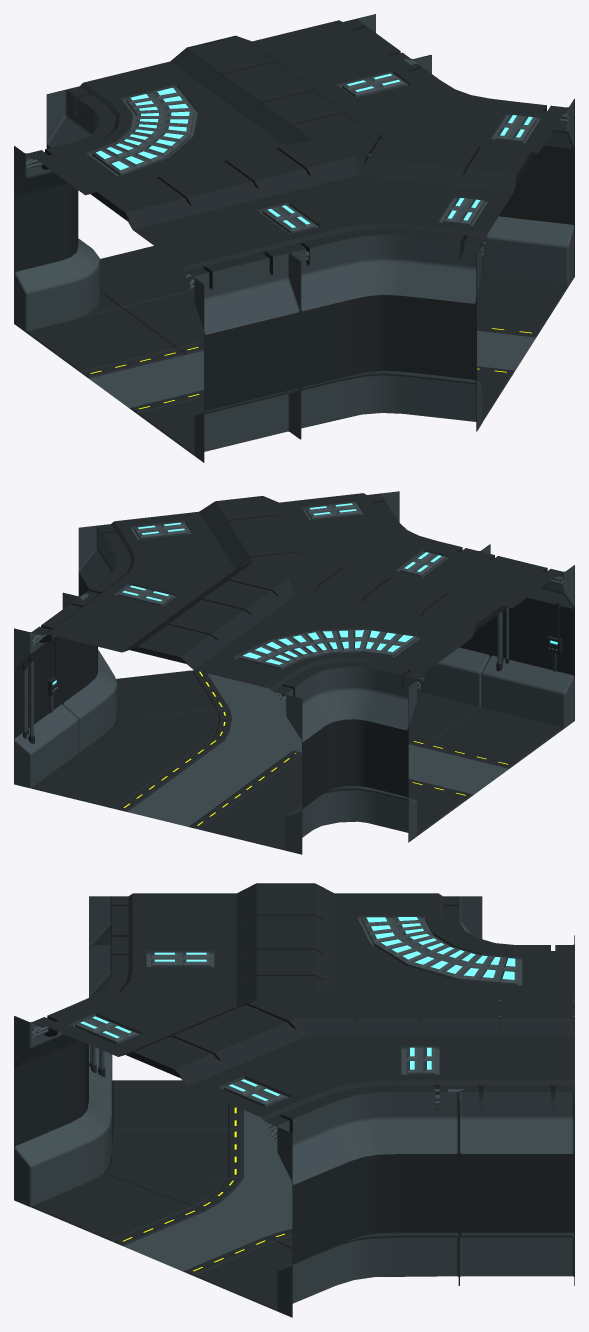
The model's file is hallwayDouble120.fbx.
3 views of the same model, one above another, from view 1: azimuth 30°, elevation 25°; view 2: azimuth 150°, elevation 25°; view 3: azimuth 270°, elevation 25° (orthographic). The views are drawn at different scales.
Parts seen in each view (by area): view 1: hallwayDouble120; view 2: hallwayDouble120; view 3: hallwayDouble120.
Boxes of the visible parts, x1=… form: hallwayDouble120: x1=14, y1=14, x2=574, y2=462; hallwayDouble120: x1=14, y1=491, x2=574, y2=854; hallwayDouble120: x1=14, y1=883, x2=574, y2=1317.
Size of what is drawn, in the model's own units: 9.7 by 9.7 by 3.77.
